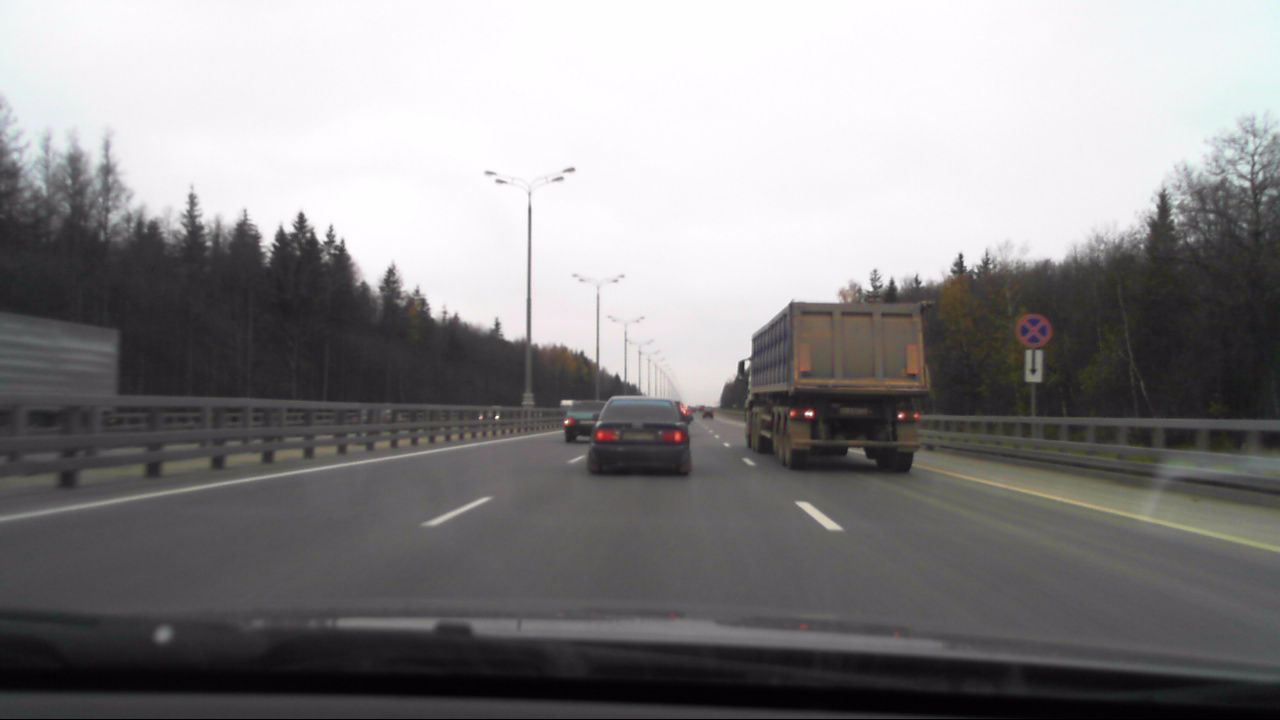No Parking: (1016, 314, 1050, 349)
